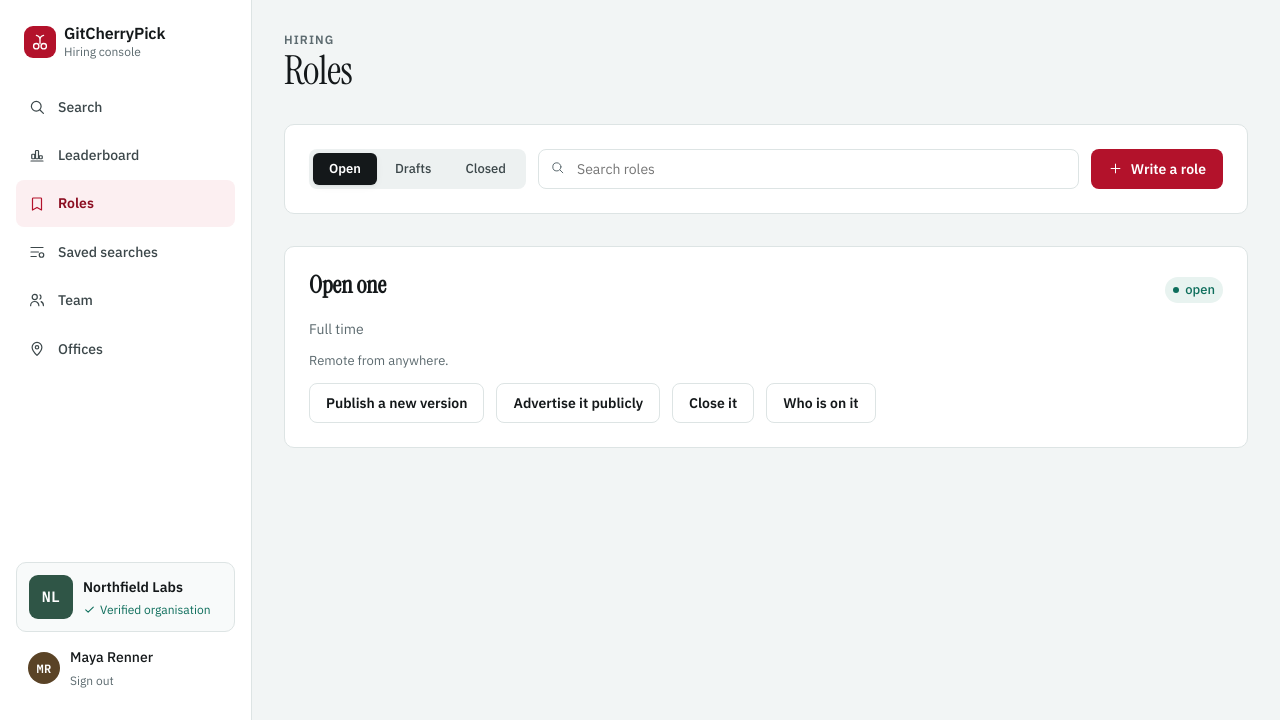
Test: the app renders › says why a search found nothing, rather than showing a blank list
Expected: the heading "Open one" is shown, [309,271,386,300]
Type "nothing like this" into the search field labelled "Search roles" at (808, 169), box [538,149,1079,189]
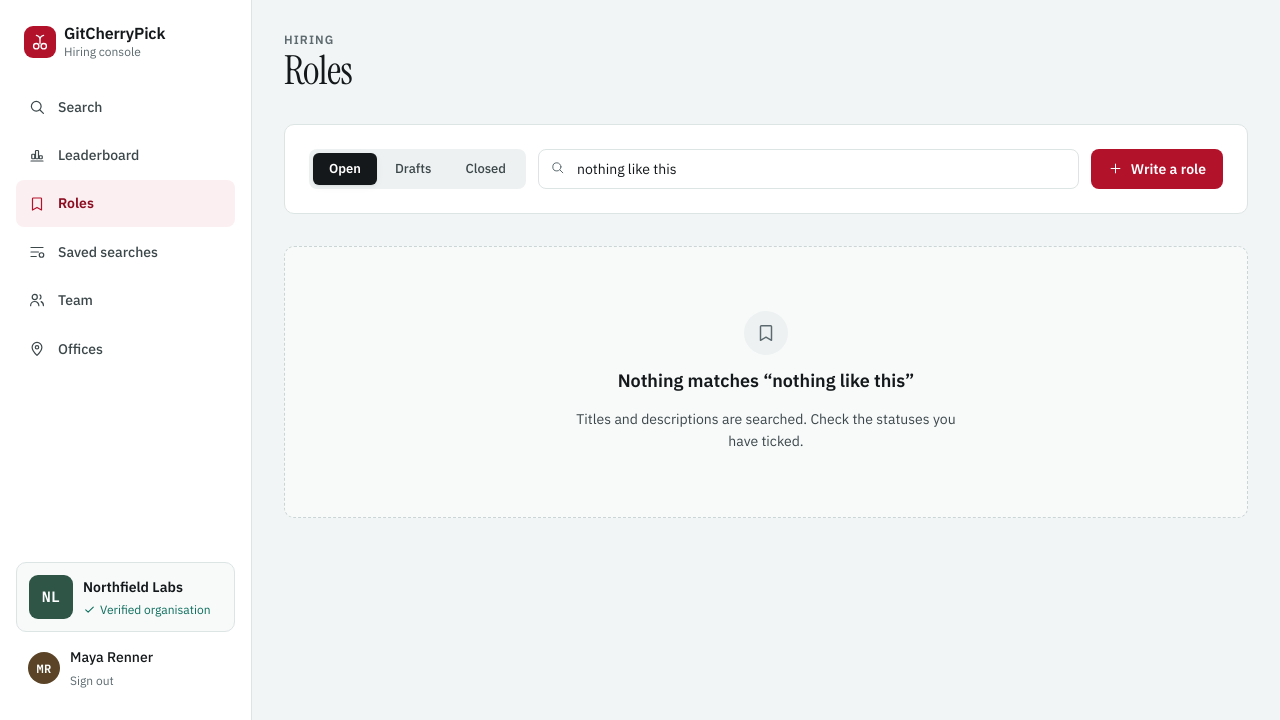
Result: the text "Nothing matches “nothing like this”" is shown at [618,367,914,396]
Result: the text "statuses you have ticked" is shown at [576,410,956,450]
